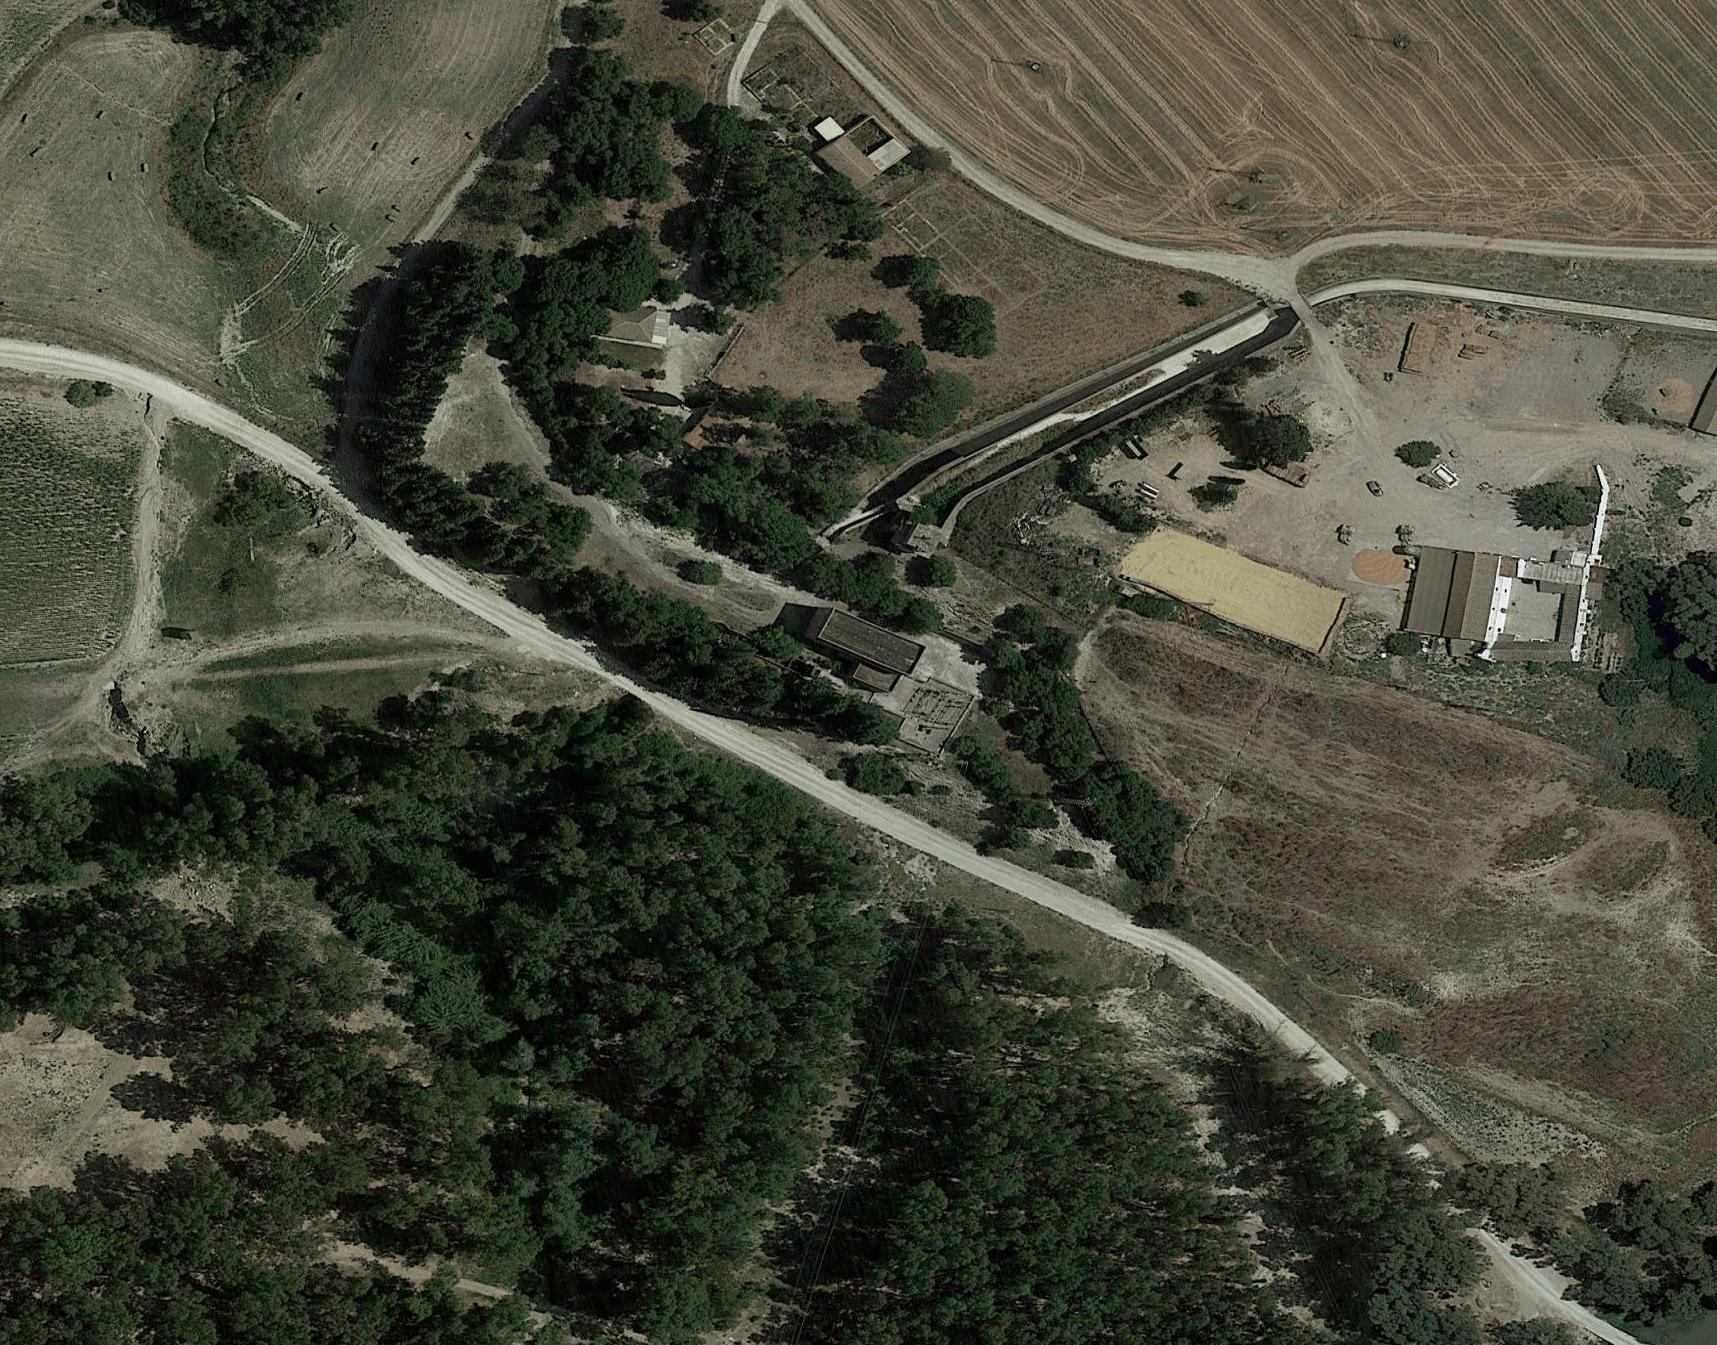substation: (895, 675, 971, 748)
